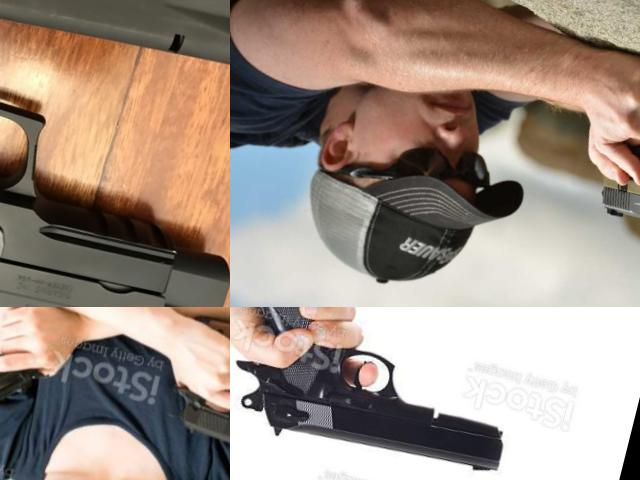handgun: (0, 0, 230, 307), (230, 307, 546, 480), (153, 307, 230, 480), (588, 111, 640, 247)
